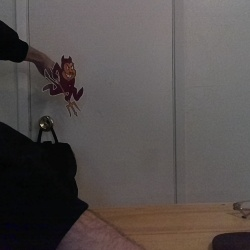sparky: (41, 54, 84, 118)
